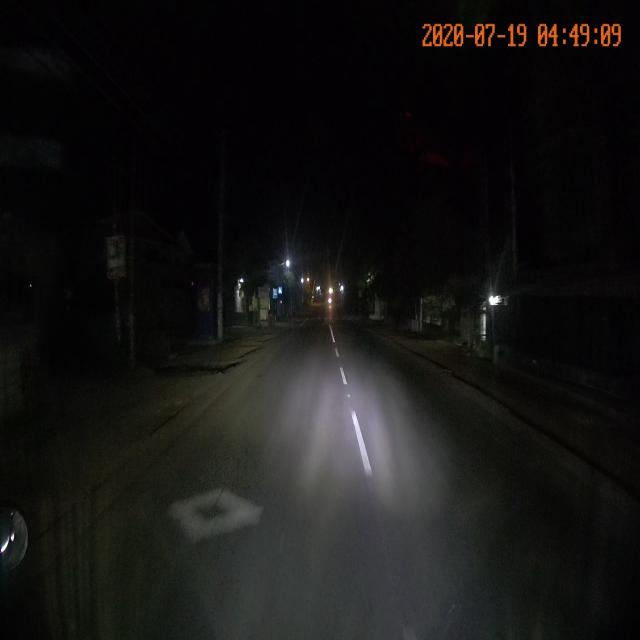Romb: (162, 487, 269, 543)
